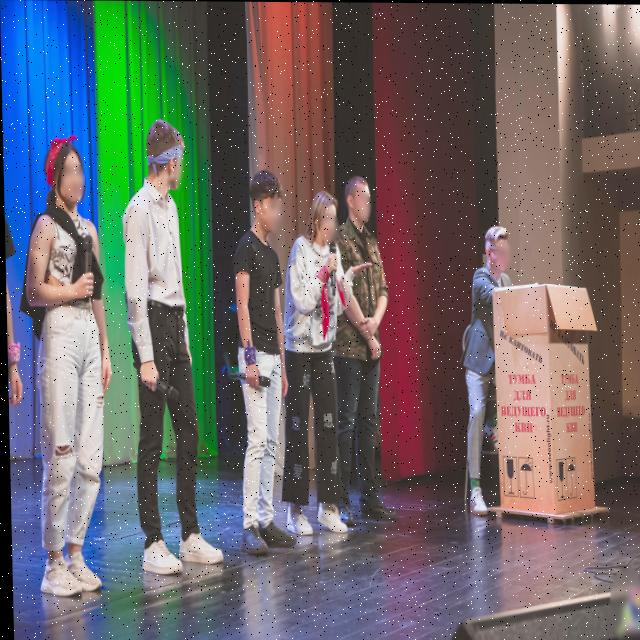Person: (26, 124, 120, 624), (132, 118, 216, 579), (229, 166, 296, 566), (284, 186, 347, 543), (455, 215, 527, 520), (339, 170, 399, 511)
